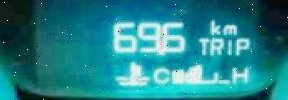-: (155, 47, 163, 54)
6: (108, 20, 135, 54), (160, 18, 185, 52)
9: (136, 19, 160, 52)
X: (228, 64, 248, 84), (150, 65, 168, 84), (233, 36, 248, 55), (208, 36, 222, 55), (195, 35, 206, 55), (220, 22, 235, 35), (207, 17, 218, 34), (223, 37, 230, 54)
